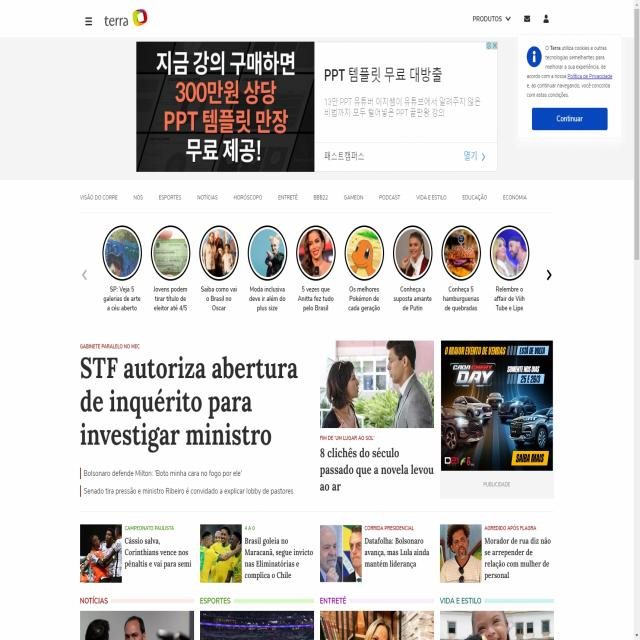menu-bar: (465, 6, 554, 31), (77, 7, 99, 34)
menu-panel: (74, 185, 538, 209)
